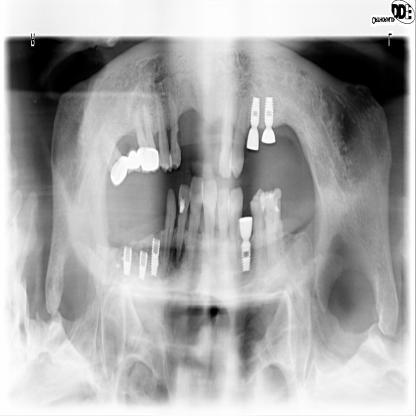Bicon: (238, 237, 254, 278), (148, 236, 162, 278), (136, 246, 150, 286), (120, 242, 134, 279), (246, 96, 262, 128), (263, 96, 275, 128)
